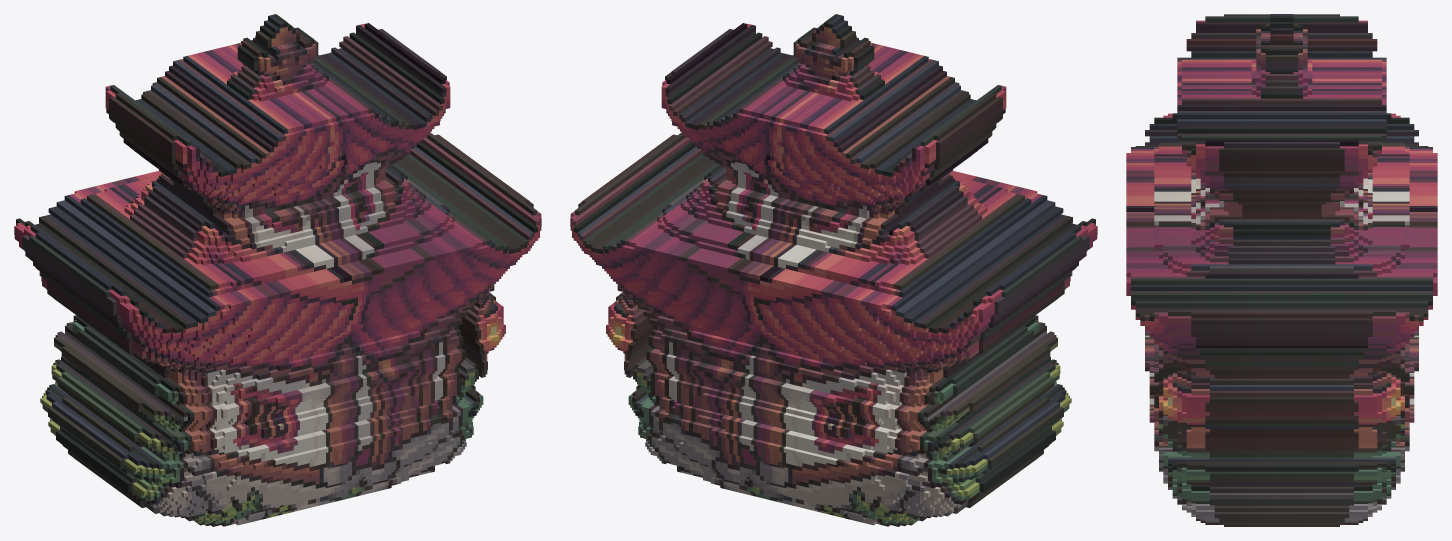
File: pixel_house.glb
The picture shows the model from 3 angles, left to right: view 1: azimuth 30°, elevation 25°; view 2: azimuth 150°, elevation 25°; view 3: azimuth 270°, elevation 25°; orthographic projection.
Parts seen in each view (by area): view 1: VoxelObject; view 2: VoxelObject; view 3: VoxelObject.
Boxes of the visible parts, <box> form: VoxelObject: <box>14,14,541,526</box>; VoxelObject: <box>570,14,1097,526</box>; VoxelObject: <box>1126,14,1437,526</box>.
Bounding box in the file's own units: 5.02 × 5.5 × 3.23.
